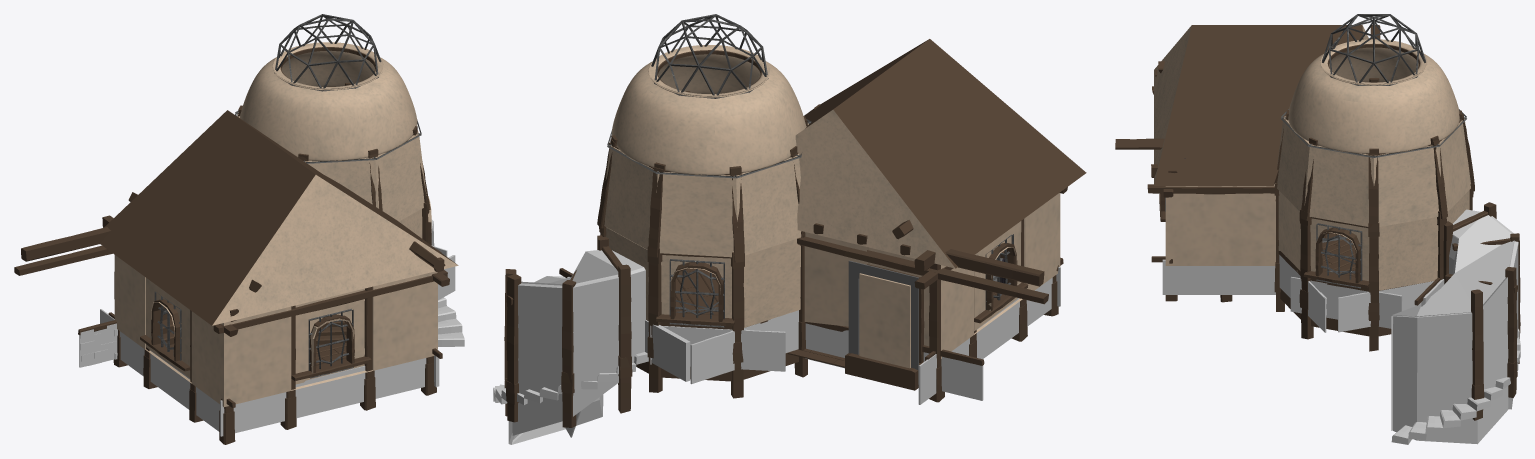
The model's file is final environment.fbx.
The picture shows the model from 3 angles, left to right: view 1: azimuth 30°, elevation 25°; view 2: azimuth 150°, elevation 25°; view 3: azimuth 270°, elevation 25°; orthographic projection. The views are drawn at different scales.
Parts seen in each view (by area): view 1: Cube.167; view 2: Cube.167; view 3: Cube.167.
Part boxes in pixels (box(x1,y1,x2,y2)): Cube.167: box(14, 14, 464, 444); Cube.167: box(493, 14, 1086, 444); Cube.167: box(1115, 14, 1520, 444).
Bounding box in the file's own units: 1453 × 1138 × 1139.
